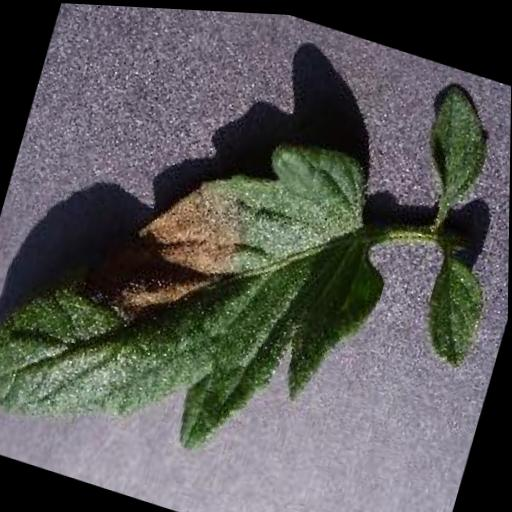Healthy: (403, 71, 506, 208), (403, 249, 502, 374)
Late Blight: (0, 62, 412, 510)
